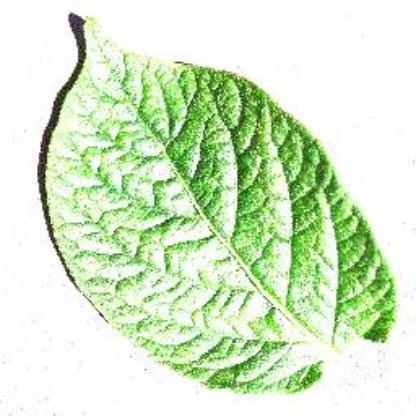Healthy-plant: (41, 11, 401, 406)
